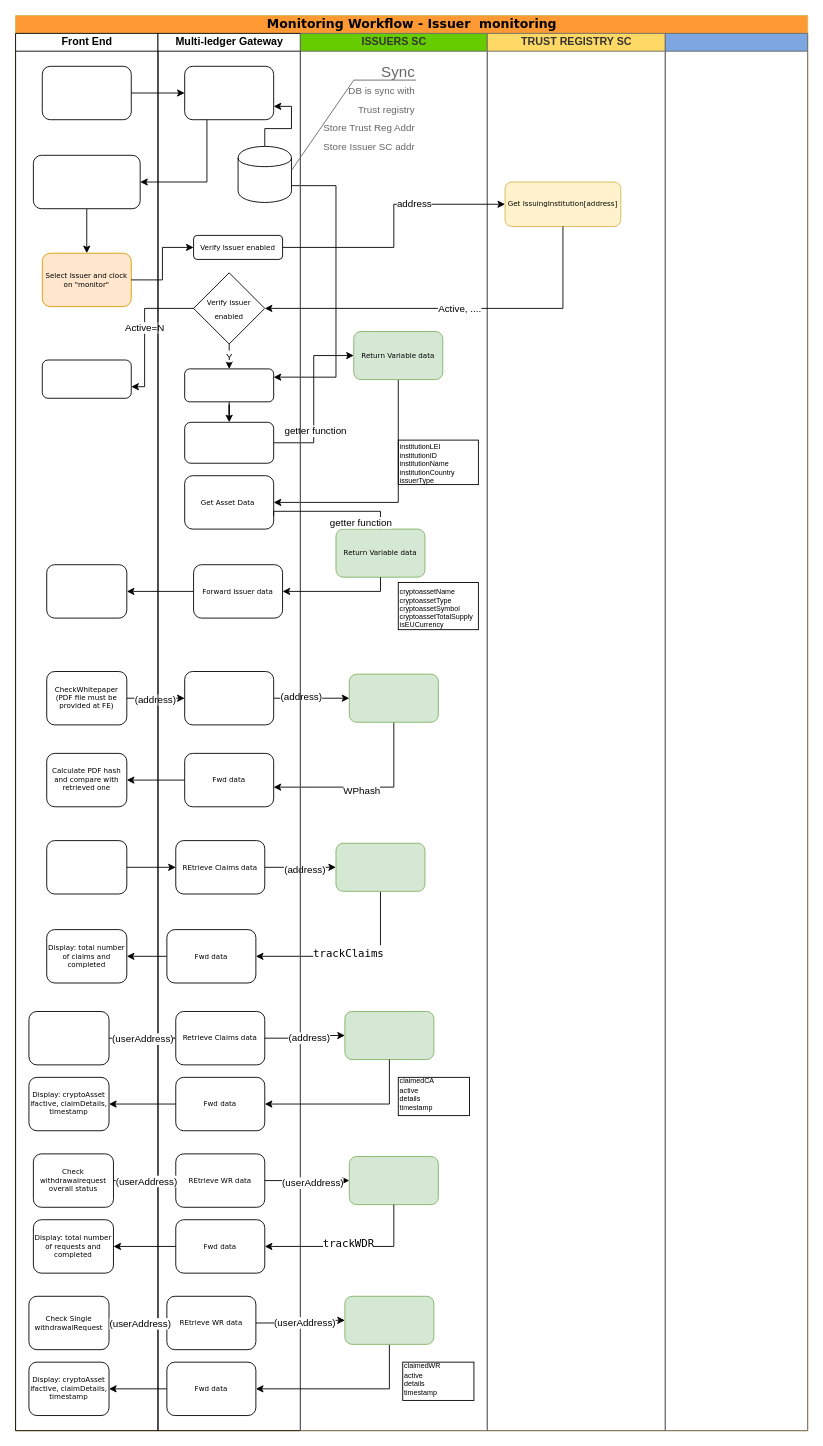
Image size: 823x1446. Some labels were removed from this diagram. Each missing label, with the centre of its shape:
Check Claims overall status: (86,867)
Check Single claim: (68,1038)
Click on Issuers side menu: (86,92)
Display Issuer Data: (86,591)
Display Issuer list (DID, Name): (86,181)
get Claims[userAddress]: (389,1035)
Get Issuer Data (Get one by One the public variables needed): (229,442)
get trackClaims: (380,866)
get trackWDR: (393,1180)
get whitePaperHash: (393,697)
get wRequest[userAddress]: (389,1319)
Issuer Inactive: (86,378)
Local DB: (264,174)
Retrieve Issuer Smart Contract Address: (229,385)
Retrieve Issuers list from DB: (229,92)
Retrieve WP Signature: (229,698)
TOKEN DAPP: (736,731)
